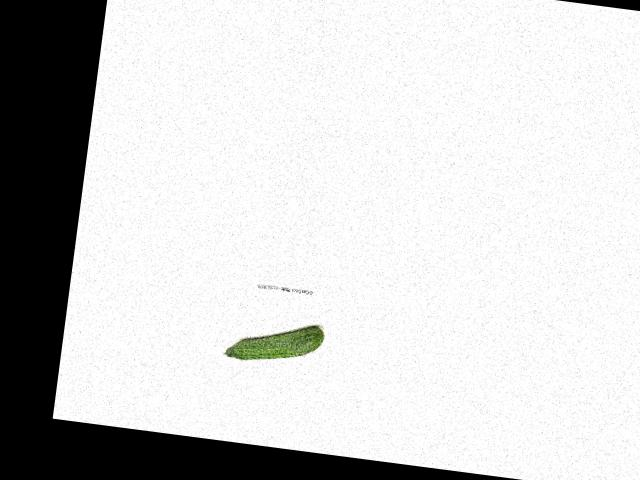cucumber: (222, 314, 324, 369)
